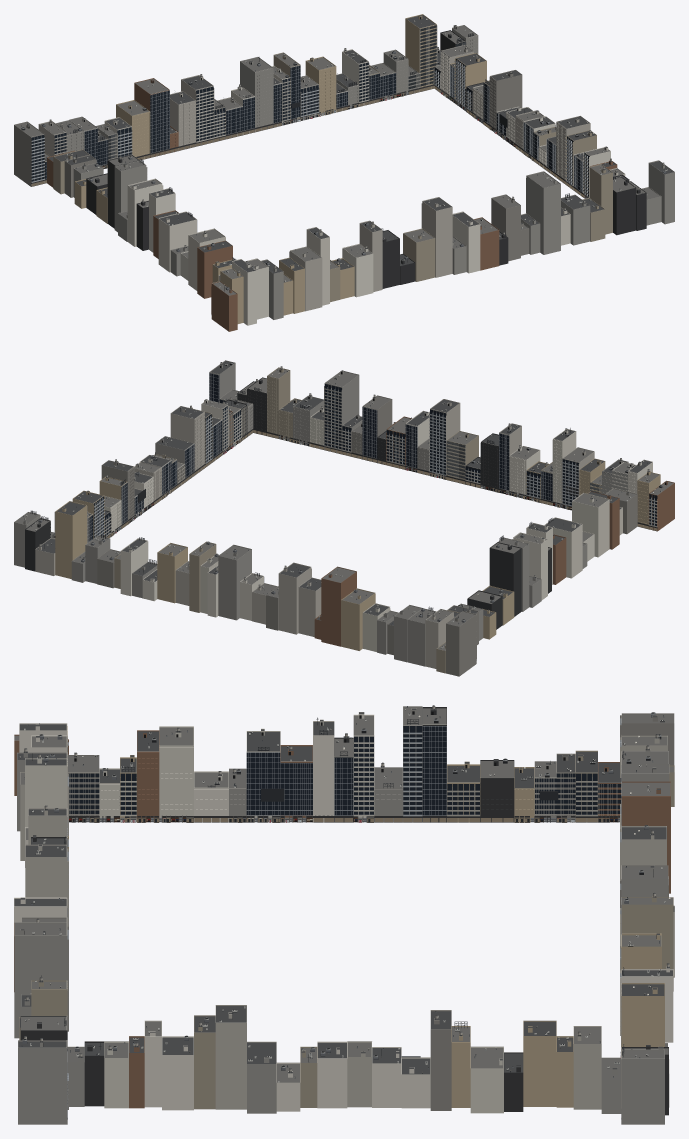
The model's file is HEX_City_05_BUILDINGS_MIDGROUND.fbx.
3 renders of one model, top to bottom at view 1: azimuth 30°, elevation 25°; view 2: azimuth 150°, elevation 25°; view 3: azimuth 270°, elevation 25°, orthographic. The views are drawn at different scales.
Visible parts, largest first — view 1: MG_S_09, MG_N_30, MG_N_10, MG_S_17, MG_N_17, MG_N_01, MG_N_13, MG_W_08, MG_E_08, MG_S_12, MG_S_18, MG_N_09 (+54 smaller); view 2: MG_S_09, MG_N_30, MG_N_17, MG_N_10, MG_S_17, MG_N_01, MG_W_15, MG_W_05, MG_N_13, MG_S_12, MG_N_09, MG_E_16 (+57 smaller); view 3: MG_S_01, MG_S_09, MG_W_05, MG_E_16, MG_N_33, MG_W_08, MG_E_04, MG_W_15, MG_N_30, MG_W_09, MG_N_10, MG_E_02 (+56 smaller).
Part boxes in pixels (left/top/right/bottom): MG_S_09: left=526, top=171, right=560, bottom=254; MG_N_30: left=405, top=14, right=437, bottom=91; MG_N_10: left=134, top=78, right=169, bottom=157; MG_S_17: left=421, top=197, right=452, bottom=277; MG_N_17: left=240, top=57, right=273, bottom=132; MG_N_01: left=14, top=121, right=44, bottom=186; MG_N_13: left=181, top=74, right=214, bottom=146; MG_W_08: left=158, top=211, right=197, bottom=272; MG_E_08: left=489, top=70, right=522, bottom=133; MG_S_12: left=491, top=194, right=520, bottom=261; MG_S_18: left=403, top=228, right=435, bottom=281; MG_N_09: left=116, top=100, right=150, bottom=160; MG_S_09: left=324, top=370, right=359, bottom=454; MG_N_30: left=55, top=501, right=87, bottom=578; MG_N_17: left=218, top=544, right=251, bottom=620; MG_N_10: left=321, top=566, right=356, bottom=646; MG_S_17: left=429, top=399, right=460, bottom=479; MG_N_01: left=446, top=611, right=476, bottom=676; MG_W_15: left=489, top=542, right=521, bottom=616; MG_W_05: left=572, top=492, right=609, bottom=557; MG_N_13: left=278, top=562, right=311, bottom=634; MG_S_12: left=362, top=394, right=392, bottom=462; MG_N_09: left=341, top=588, right=375, bottom=650; MG_E_16: left=170, top=406, right=204, bottom=475; MG_S_01: left=18, top=1038, right=67, bottom=1124; MG_S_09: left=14, top=922, right=68, bottom=1038; MG_W_05: left=159, top=726, right=193, bottom=822; MG_E_16: left=215, top=1005, right=246, bottom=1109; MG_N_33: left=621, top=1046, right=664, bottom=1124; MG_W_08: left=246, top=728, right=284, bottom=822; MG_E_04: left=523, top=1020, right=556, bottom=1106; MG_W_15: left=422, top=705, right=446, bottom=822; MG_N_30: left=621, top=983, right=664, bottom=1047; MG_W_09: left=280, top=745, right=312, bottom=822; MG_N_10: left=621, top=781, right=670, bottom=893; MG_E_02: left=573, top=1026, right=601, bottom=1109.
Size of the model in its own units: 1634 by 252 by 1363.
